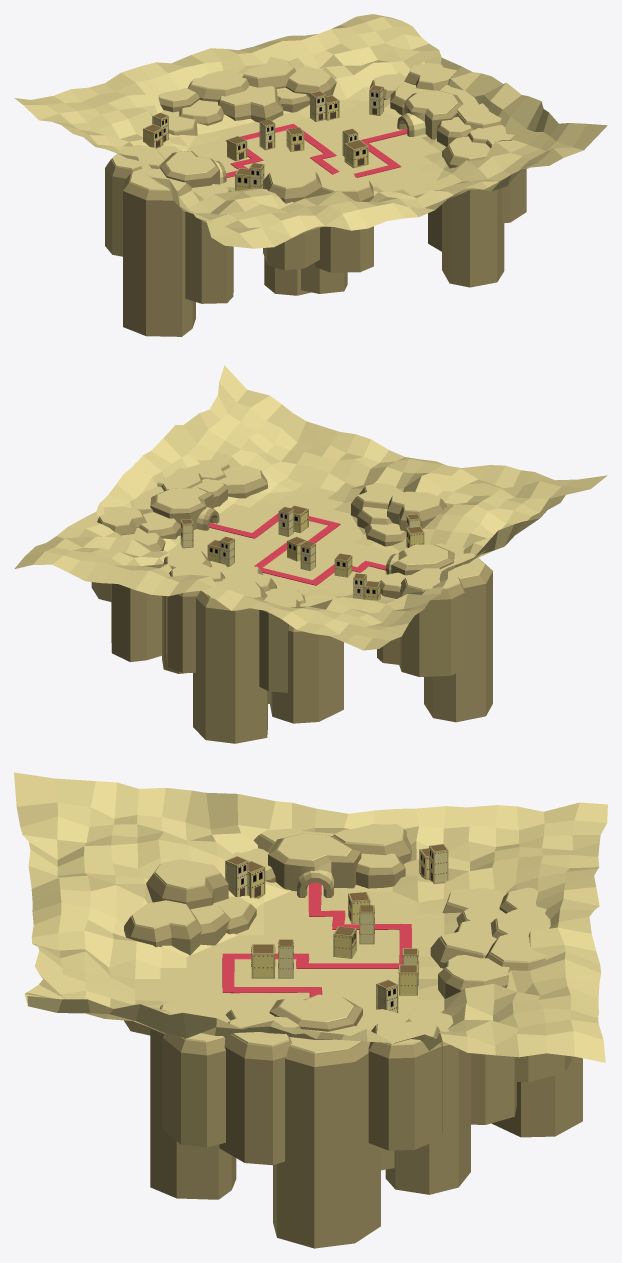
The model's file is MAP6.fbx.
3 renders of one model, top to bottom at view 1: azimuth 30°, elevation 25°; view 2: azimuth 150°, elevation 25°; view 3: azimuth 270°, elevation 25°, orthographic. The views are drawn at different scales.
Parts seen in each view (by area): view 1: Map6, Ground, Path_Red; view 2: Map6, Ground, Path_Red; view 3: Map6, Ground, Path_Red.
Boxes of the visible parts, bbox=[...] form: Map6: bbox=[14, 14, 607, 336]; Ground: bbox=[187, 99, 446, 187]; Path_Red: bbox=[225, 124, 407, 177]; Map6: bbox=[14, 365, 607, 743]; Ground: bbox=[164, 493, 399, 596]; Path_Red: bbox=[209, 513, 385, 585]; Map6: bbox=[14, 772, 607, 1248]; Ground: bbox=[186, 884, 444, 1016]; Path_Red: bbox=[222, 882, 411, 997].
Bounding box in the file's own units: 15857 × 7363 × 15718.
